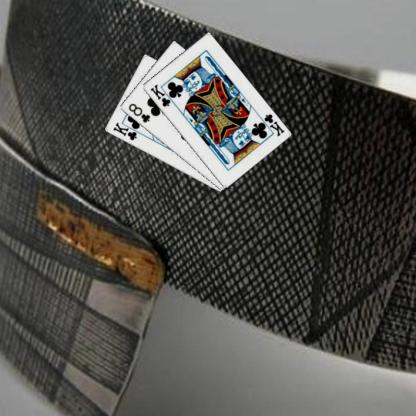8C: (126, 100, 151, 124)
KC: (256, 111, 285, 138), (110, 119, 143, 142), (148, 82, 176, 108)
